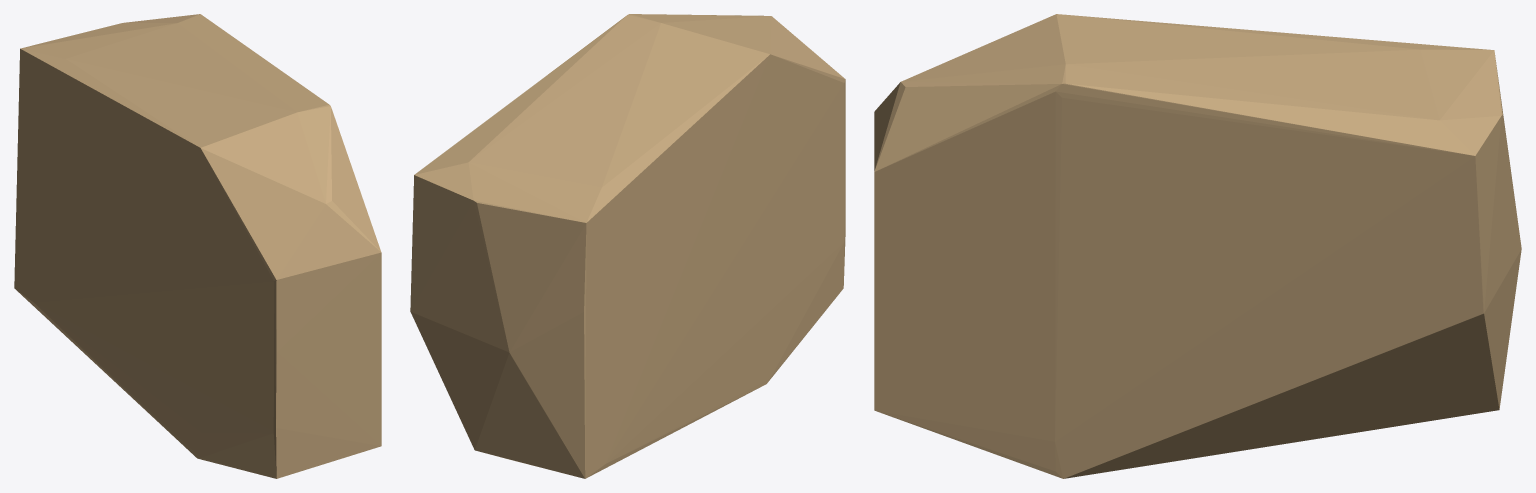
Rendered from equipment_rolling_tool_chest_cabinet_combo_d01.glb.
The picture shows the model from 3 angles, left to right: view 1: azimuth 30°, elevation 25°; view 2: azimuth 150°, elevation 25°; view 3: azimuth 270°, elevation 25°; orthographic projection. The views are drawn at different scales.
Parts seen in each view (by area): view 1: geometry_0; view 2: geometry_0; view 3: geometry_0.
Boxes of the visible parts, box(x1,y1,x2,y2) form: geometry_0: box(14, 14, 381, 478); geometry_0: box(410, 14, 845, 478); geometry_0: box(874, 14, 1521, 478).
Size of the model in its own units: 0.1842 by 0.3231 by 0.4799.
